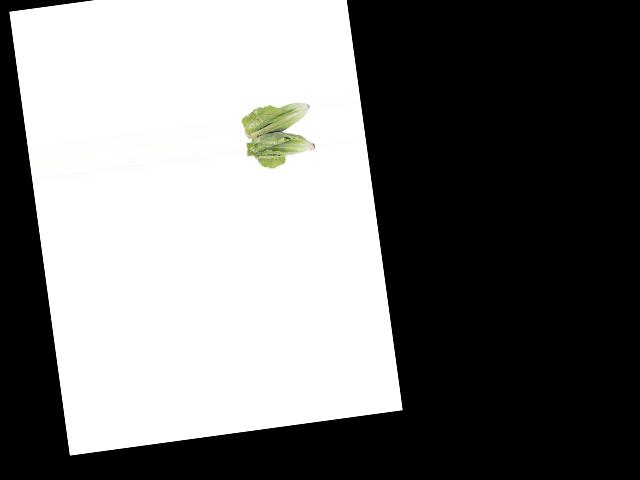lettuce: (239, 96, 317, 164)
